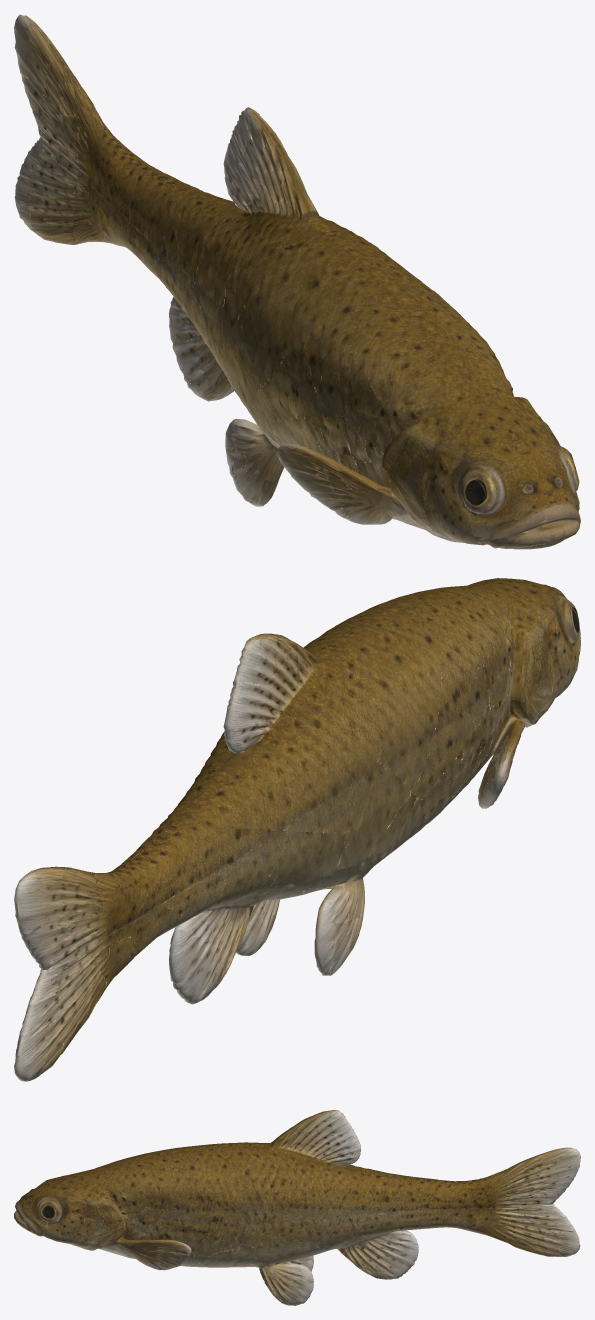
Rendered from strzebla_blotna.glb.
The picture shows the model from 3 angles, top to bottom: view 1: azimuth 30°, elevation 25°; view 2: azimuth 150°, elevation 25°; view 3: azimuth 270°, elevation 25°; orthographic projection. The views are drawn at different scales.
Visible parts, largest first — view 1: Mesh_0; view 2: Mesh_0; view 3: Mesh_0.
Boxes of the visible parts, bbox=[...] form: Mesh_0: bbox=[14, 14, 580, 549]; Mesh_0: bbox=[14, 578, 580, 1081]; Mesh_0: bbox=[14, 1110, 580, 1305].
Size of the model in its own units: 0.46 by 0.6872 by 1.9.
Materials: 1 (1 with a texture image).
